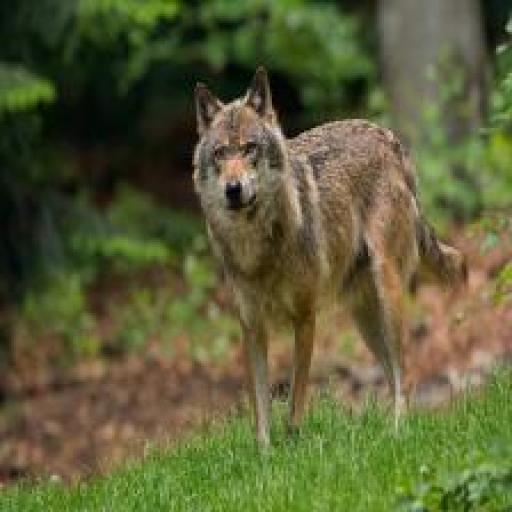wolf: (164, 36, 500, 492)
